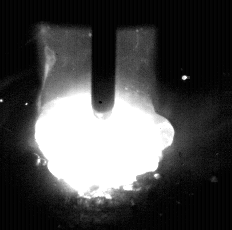arame: (92, 0, 116, 119)
poca: (34, 0, 174, 230)
